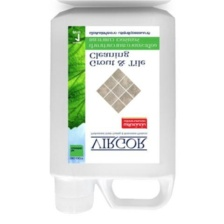cleaning_solution: (46, 4, 181, 217)
